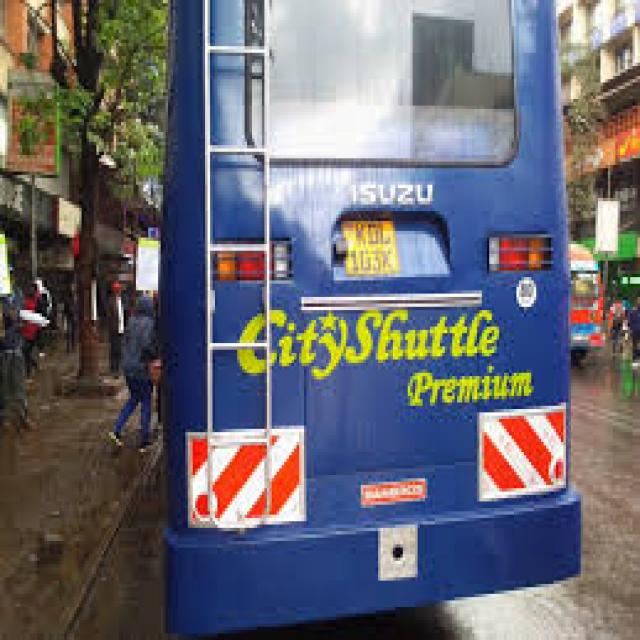bus: (148, 0, 593, 640)
